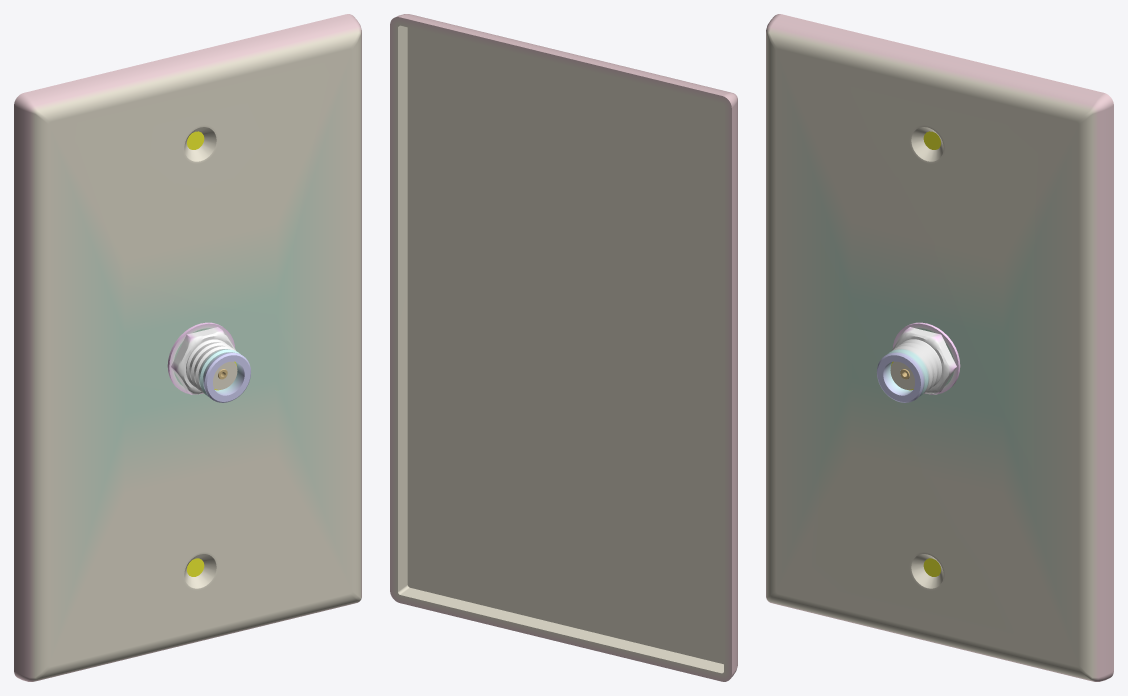
Rendered from Kit_JackF.fbx.
3 renders of one model, left to right at view 1: azimuth 30°, elevation 25°; view 2: azimuth 150°, elevation 25°; view 3: azimuth 330°, elevation 25°, orthographic.
Visible parts, largest first — view 1: Kit_JackF_LOD0; view 2: Kit_JackF_LOD0; view 3: Kit_JackF_LOD0.
Part boxes in pixels (x1=…): Kit_JackF_LOD0: x1=14, y1=14, x2=361, y2=681; Kit_JackF_LOD0: x1=390, y1=14, x2=737, y2=681; Kit_JackF_LOD0: x1=766, y1=14, x2=1113, y2=681.
Size of what is drawn, in the model's own units: 0.0698 by 0.1143 by 0.0155.
